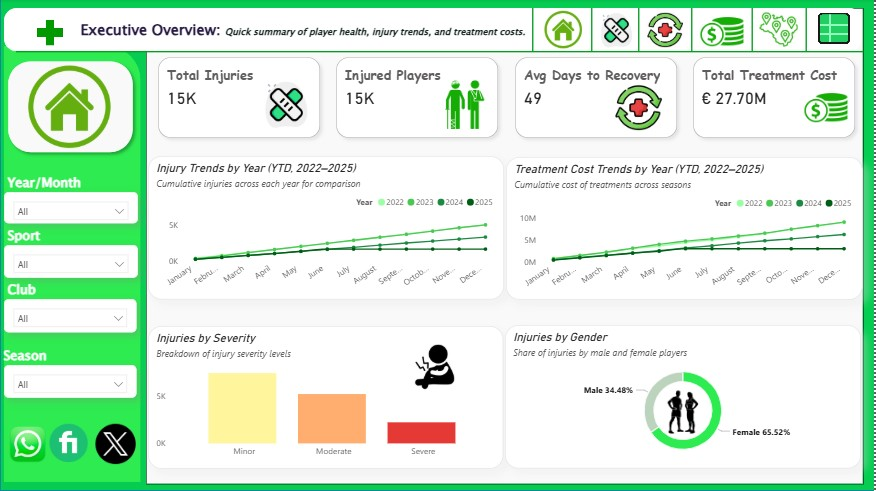

The page's visual inventory and layout, read from the dashboard file:
{"tool":"powerbi","page":{"name":"Home","canvas":[1280,720],"ordinal":0},"visuals":[{"type":"shape","box":[0,0,1280.2,720],"z":0},{"type":"shape","box":[5.8,69.1,200.2,637.9],"z":1000},{"type":"shape","box":[213.1,13,1049.8,697],"z":2000},{"type":"shape","box":[5.8,13,1255.7,63.4],"z":3000},{"type":"textbox","box":[112.3,24.5,861.1,51.8],"z":4000},{"type":"cardVisual","title":"dbdbdbdbd","fields":{"Data":["Measure.Total Injuries"]},"box":[219.1,72.7,261.1,142.6],"z":5000},{"type":"cardVisual","title":"dbdbdbdbd","fields":{"Data":["Measure.Injured Players"]},"box":[480.2,72.7,261.1,142.6],"z":6000},{"type":"cardVisual","title":"dbdbdbdbd","fields":{"Data":["Measure.Avg Days to Recovery"]},"box":[741.3,72.7,261.1,142.6],"z":7000},{"type":"cardVisual","title":"dbdbdbdbd","fields":{"Data":["Measure.Total Treatment Cost"]},"box":[1002.4,72.7,261.1,142.6],"z":8000},{"type":"lineChart","title":"Injury Trends by Year (YTD, 2022–2025)","fields":{"Y":["Measure.Injuries YTD"],"Category":["DateTable.Month Name"],"Series":["DateTable.Year"]},"box":[216,230.4,521.3,210.2],"z":9000},{"type":"lineChart","title":"Treatment Cost Trends by Year (YTD, 2022–2025)","fields":{"Category":["DateTable.Month Name"],"Y":["Measure.Treatment Cost YTD"],"Series":["DateTable.Year"]},"box":[740,231.1,522.2,208.9],"z":10000},{"type":"columnChart","title":"Injuries by Severity","fields":{"Category":["DimInjuryType.Severity"],"Y":["Measure.Total Injuries"]},"box":[216,478.1,519.8,208.8],"z":11000},{"type":"donutChart","title":"Injuries by Gender","fields":{"Category":["DimPlayer.Gender"],"Y":["Measure.Total Injuries"]},"box":[739.7,477.8,520.6,209.5],"z":12000},{"type":"image","box":[961.9,558.7,73.4,90.7],"z":13000},{"type":"image","box":[593.3,495.4,92.2,87.8],"z":14000},{"type":"image","box":[33.1,13,79.2,73.4],"z":15000},{"type":"slicer","title":"Year/Month","fields":{"Values":["DateTable.Year","DateTable.Month Name"]},"box":[5.8,282.2,195.8,46.1],"z":16000},{"type":"textbox","box":[5.8,250.6,149.8,60.5],"z":17000},{"type":"slicer","title":"Year/Month","fields":{"Values":["DimClub.Sport"]},"box":[5.8,360,195.8,47.5],"z":18000},{"type":"textbox","box":[5.8,328.3,149.8,60.5],"z":19000},{"type":"slicer","title":"Year/Month","fields":{"Values":["DimClub.ClubTeamName"]},"box":[5.8,439.2,194.4,49],"z":20000},{"type":"textbox","box":[5.8,407.5,149.8,60.5],"z":21000},{"type":"image","box":[377.3,113.8,83.5,80.6],"z":22000},{"type":"image","box":[633.6,113.8,93.6,80.6],"z":23000},{"type":"image","box":[895.7,113.8,77.8,89.3],"z":24000},{"type":"image","box":[1172.2,118.1,73.4,80.6],"z":25000},{"type":"slicer","title":"Year/Month","fields":{"Values":["FactInjuries.Season"]},"box":[5.8,535.7,194.4,47.5],"z":26000},{"type":"textbox","box":[0,504,200.2,56.2],"z":27000},{"type":"image","box":[792,10.1,64.8,69.1],"z":28000},{"type":"image","box":[871.2,10.1,63.4,70.6],"z":29000},{"type":"image","box":[941.8,7.2,61.9,76.3],"z":30000},{"type":"image","box":[1019.5,7.2,73.4,80.6],"z":31000},{"type":"image","box":[1105.9,11.5,66.2,66.2],"z":32000},{"type":"image","box":[1180.8,11.5,76.3,60.5],"z":33000},{"type":"shape","box":[756,13,46.1,63.4],"z":34000},{"type":"shape","box":[842.4,13,46.1,63.4],"z":35000},{"type":"shape","box":[911.5,13,46.1,63.4],"z":36000},{"type":"shape","box":[989.3,13,46.1,63.4],"z":37000},{"type":"shape","box":[1075.7,13,50.4,63.4],"z":38000},{"type":"shape","box":[1154.9,13,50.4,63.4],"z":39000},{"type":"shape","box":[23,46.1,1239.8,63.4],"z":40000},{"type":"shape","box":[2.9,82.1,200.2,151.2],"z":41000},{"type":"image","box":[34.6,92.2,132.5,131],"z":42000},{"type":"image","box":[0,614.9,80.6,73.4],"z":43000},{"type":"image","box":[67.7,614.9,66.2,69.1],"z":44000},{"type":"image","box":[133.9,614.9,69.1,72],"z":45000}]}

Visuals, with their boxes in screenshot pixels (x1, y1, x2, y2), scaled from the page's 1280x720 canvas onto the 876x491 screenshot:
shape: (left=0, top=0, right=875, bottom=490)
shape: (left=4, top=47, right=141, bottom=482)
shape: (left=146, top=9, right=864, bottom=484)
shape: (left=4, top=9, right=863, bottom=52)
textbox: (left=77, top=17, right=666, bottom=52)
"dbdbdbdbd" cardVisual: (left=150, top=50, right=329, bottom=147)
"dbdbdbdbd" cardVisual: (left=329, top=50, right=507, bottom=147)
"dbdbdbdbd" cardVisual: (left=507, top=50, right=686, bottom=147)
"dbdbdbdbd" cardVisual: (left=686, top=50, right=865, bottom=147)
"Injury Trends by Year (YTD, 2022–2025)" lineChart: (left=148, top=157, right=505, bottom=300)
"Treatment Cost Trends by Year (YTD, 2022–2025)" lineChart: (left=506, top=158, right=864, bottom=300)
"Injuries by Severity" columnChart: (left=148, top=326, right=504, bottom=468)
"Injuries by Gender" donutChart: (left=506, top=326, right=863, bottom=469)
image: (left=658, top=381, right=709, bottom=443)
image: (left=406, top=338, right=469, bottom=398)
image: (left=23, top=9, right=77, bottom=59)
"Year/Month" slicer: (left=4, top=192, right=138, bottom=224)
textbox: (left=4, top=171, right=106, bottom=212)
"Year/Month" slicer: (left=4, top=246, right=138, bottom=278)
textbox: (left=4, top=224, right=106, bottom=265)
"Year/Month" slicer: (left=4, top=300, right=137, bottom=333)
textbox: (left=4, top=278, right=106, bottom=319)
image: (left=258, top=78, right=315, bottom=133)
image: (left=434, top=78, right=498, bottom=133)
image: (left=613, top=78, right=666, bottom=139)
image: (left=802, top=81, right=852, bottom=136)
"Year/Month" slicer: (left=4, top=365, right=137, bottom=398)
textbox: (left=0, top=344, right=137, bottom=382)
image: (left=542, top=7, right=586, bottom=54)
image: (left=596, top=7, right=640, bottom=55)
image: (left=645, top=5, right=687, bottom=57)
image: (left=698, top=5, right=748, bottom=60)
image: (left=757, top=8, right=802, bottom=53)
image: (left=808, top=8, right=860, bottom=49)
shape: (left=517, top=9, right=549, bottom=52)
shape: (left=577, top=9, right=608, bottom=52)
shape: (left=624, top=9, right=655, bottom=52)
shape: (left=677, top=9, right=709, bottom=52)
shape: (left=736, top=9, right=771, bottom=52)
shape: (left=790, top=9, right=825, bottom=52)
shape: (left=16, top=31, right=864, bottom=75)
shape: (left=2, top=56, right=139, bottom=159)
image: (left=24, top=63, right=114, bottom=152)
image: (left=0, top=419, right=55, bottom=469)
image: (left=46, top=419, right=92, bottom=466)
image: (left=92, top=419, right=139, bottom=468)
